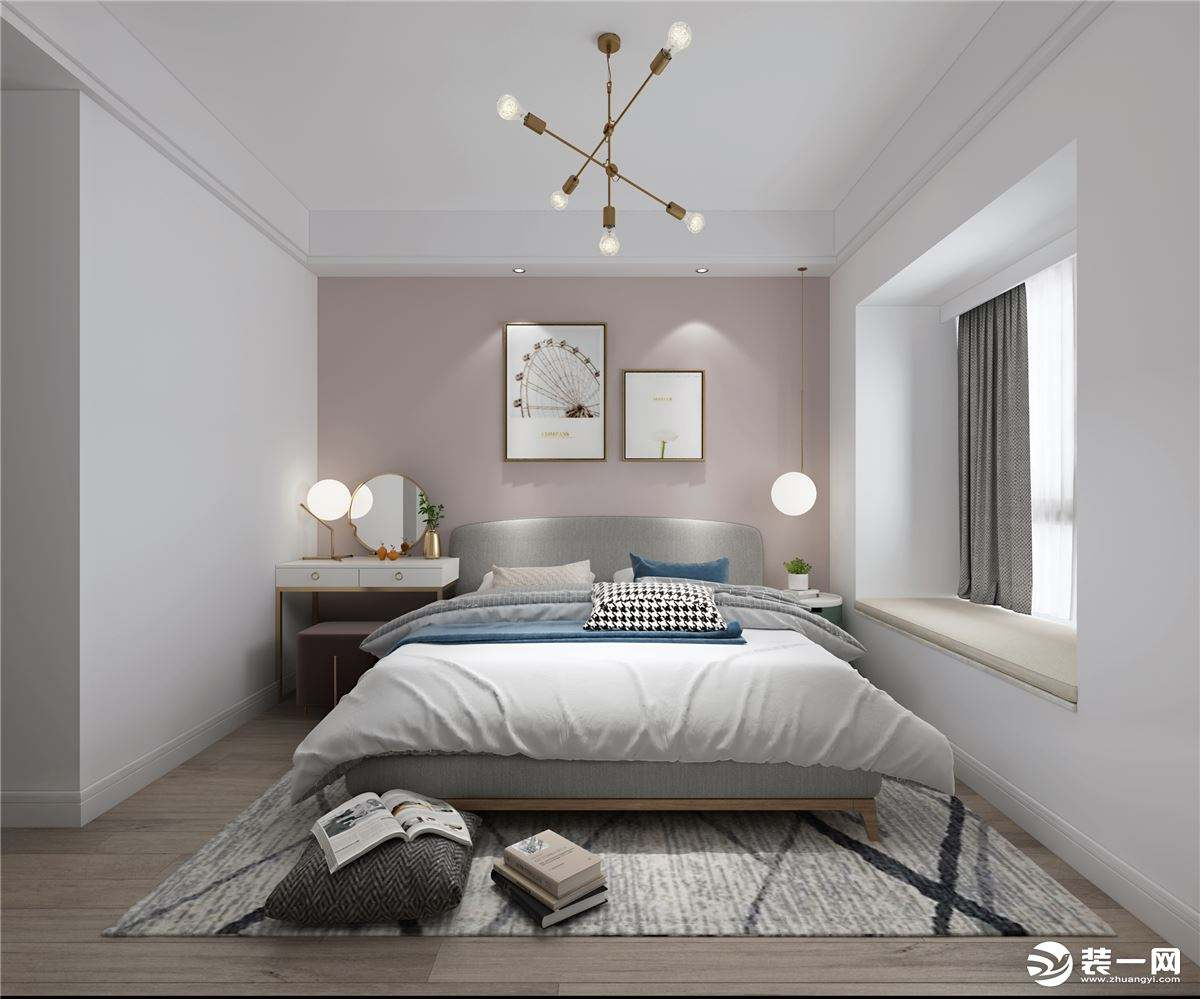床: (318, 600, 908, 852)
枕头: (407, 564, 813, 657)
灯: (495, 18, 717, 265), (294, 472, 369, 547), (759, 469, 818, 531), (685, 265, 724, 283), (497, 264, 523, 284)
